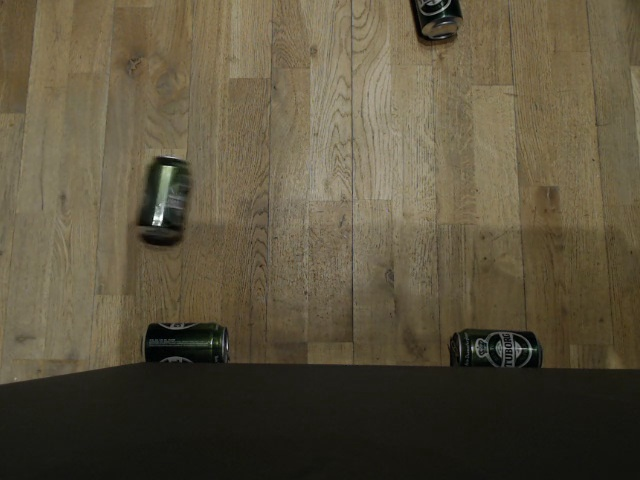beer: (137, 153, 188, 243)
